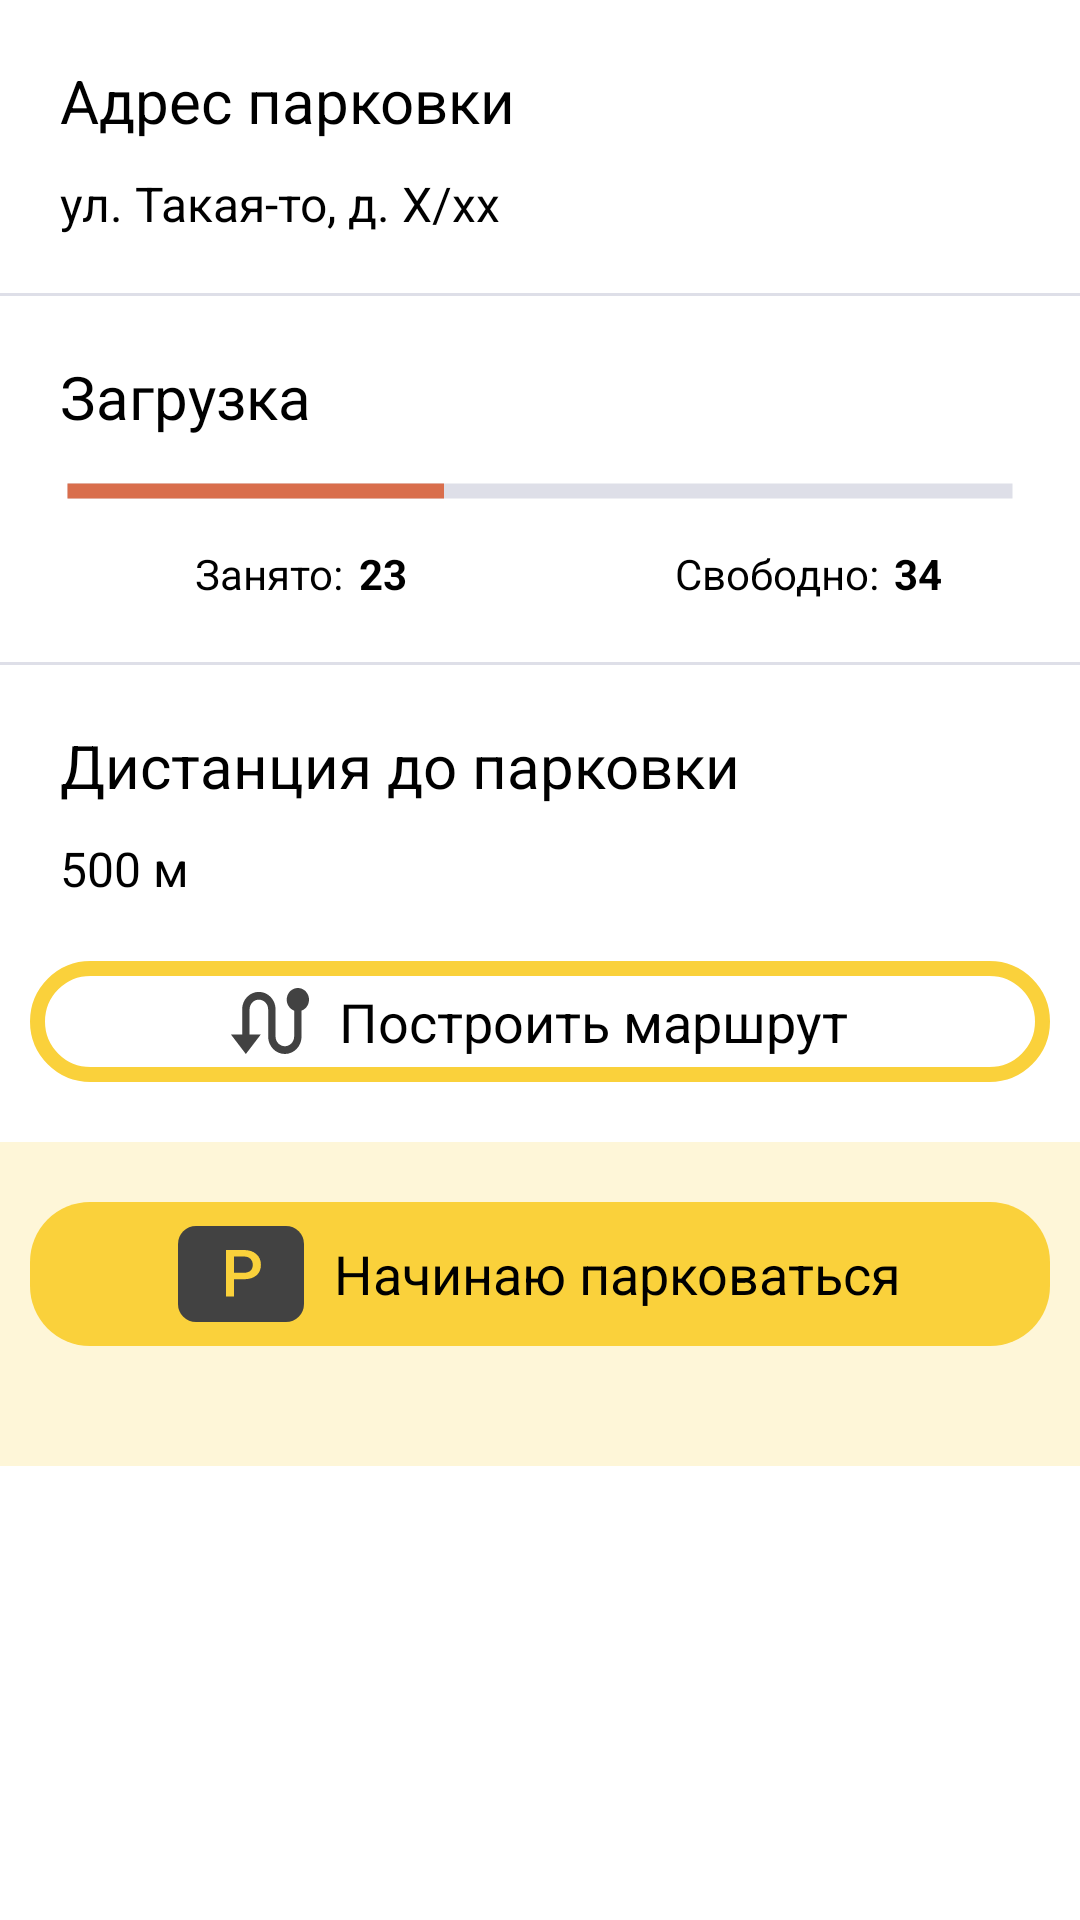

Locate icon controls on the screen. Image size 1080 x 1920, boxes as (x1, y1, x2, y2).
parking symbol: (178, 1226, 304, 1322)
route: (231, 988, 309, 1054)
